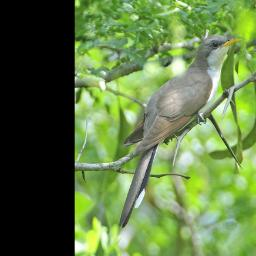Cuckoo: (118, 34, 242, 228)
